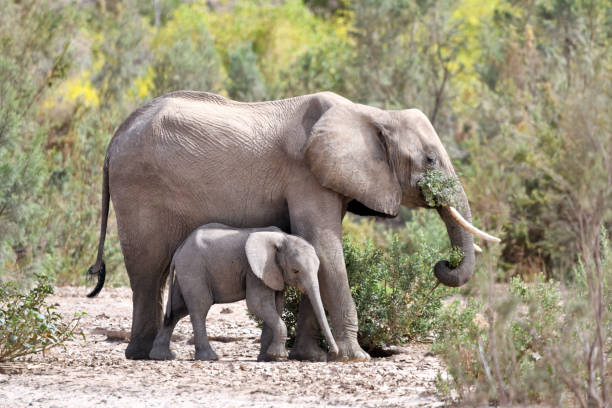africanelephant: (339, 110, 501, 247)
